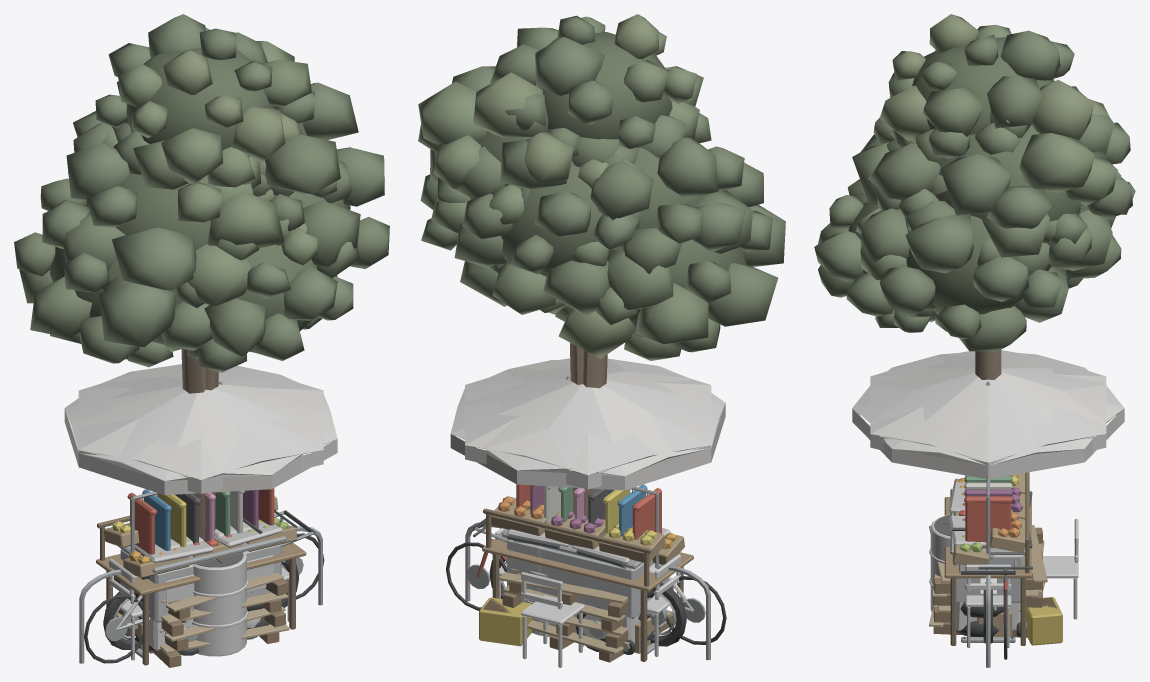
File: wave3_calcada.glb
The picture shows the model from 3 angles, left to right: view 1: azimuth 30°, elevation 25°; view 2: azimuth 150°, elevation 25°; view 3: azimuth 270°, elevation 25°; orthographic projection. The views are drawn at different scales.
Visible parts, largest first — view 1: street_tree_b__1_leaves, street_tree__1_leaves, cafe_parasol, cafe_parasol_b, clothes_rack, produce_stand, drums, pallet_stack, food_cart, bike_rack, wheelie_bins, street_tree_b__0_bark (+1 smaller); view 2: street_tree_b__1_leaves, street_tree__1_leaves, cafe_parasol, cafe_parasol_b, produce_stand, clothes_rack, pallet_stack, food_cart, cafe_set, bike_rack, wheelie_bins, motorcycle (+2 smaller); view 3: street_tree_b__1_leaves, street_tree__1_leaves, cafe_parasol, cafe_parasol_b, produce_stand, clothes_rack, cafe_set, pallet_stack, food_cart, wheelie_bins, bike_rack, drums (+3 smaller).
Part boxes in pixels (left/top/right/bottom): street_tree_b__1_leaves: left=40, top=14, right=358, bottom=297; street_tree__1_leaves: left=14, top=111, right=389, bottom=372; cafe_parasol: left=64, top=364, right=337, bottom=660; cafe_parasol_b: left=78, top=364, right=323, bottom=493; clothes_rack: left=123, top=475, right=286, bottom=657; produce_stand: left=96, top=496, right=306, bottom=665; drums: left=192, top=552, right=248, bottom=656; pallet_stack: left=114, top=572, right=289, bottom=667; food_cart: left=118, top=381, right=314, bottom=655; bike_rack: left=79, top=510, right=324, bottom=663; wheelie_bins: left=134, top=519, right=282, bottom=650; street_tree_b__0_bark: left=181, top=348, right=205, bottom=540; street_tree_b__1_leaves: left=418, top=14, right=763, bottom=309; street_tree__1_leaves: left=420, top=139, right=785, bottom=360; cafe_parasol: left=450, top=358, right=725, bottom=656; cafe_parasol_b: left=465, top=358, right=711, bottom=489; produce_stand: left=482, top=496, right=693, bottom=661; clothes_rack: left=516, top=470, right=670, bottom=654; pallet_stack: left=499, top=568, right=675, bottom=662; food_cart: left=473, top=375, right=668, bottom=651; cafe_set: left=479, top=572, right=584, bottom=667; bike_rack: left=446, top=522, right=726, bottom=660; wheelie_bins: left=507, top=528, right=670, bottom=654; motorcycle: left=489, top=556, right=686, bottom=646; street_tree_b__1_leaves: left=852, top=14, right=1121, bottom=274; street_tree__1_leaves: left=814, top=114, right=1135, bottom=351; cafe_parasol: left=852, top=353, right=1124, bottom=647; cafe_parasol_b: left=870, top=350, right=1106, bottom=465; produce_stand: left=944, top=472, right=1031, bottom=645; clothes_rack: left=961, top=475, right=1015, bottom=642; cafe_set: left=1026, top=518, right=1078, bottom=645; pallet_stack: left=929, top=525, right=1047, bottom=637; food_cart: left=914, top=381, right=1061, bottom=602; wheelie_bins: left=949, top=482, right=1032, bottom=636; bike_rack: left=941, top=523, right=1032, bottom=667; drums: left=929, top=514, right=950, bottom=611.
Size of the model in its own units: 3.39 by 5.9 by 2.95.
